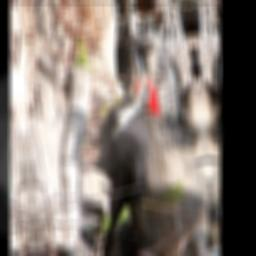Woodpecker: (52, 47, 178, 256)
